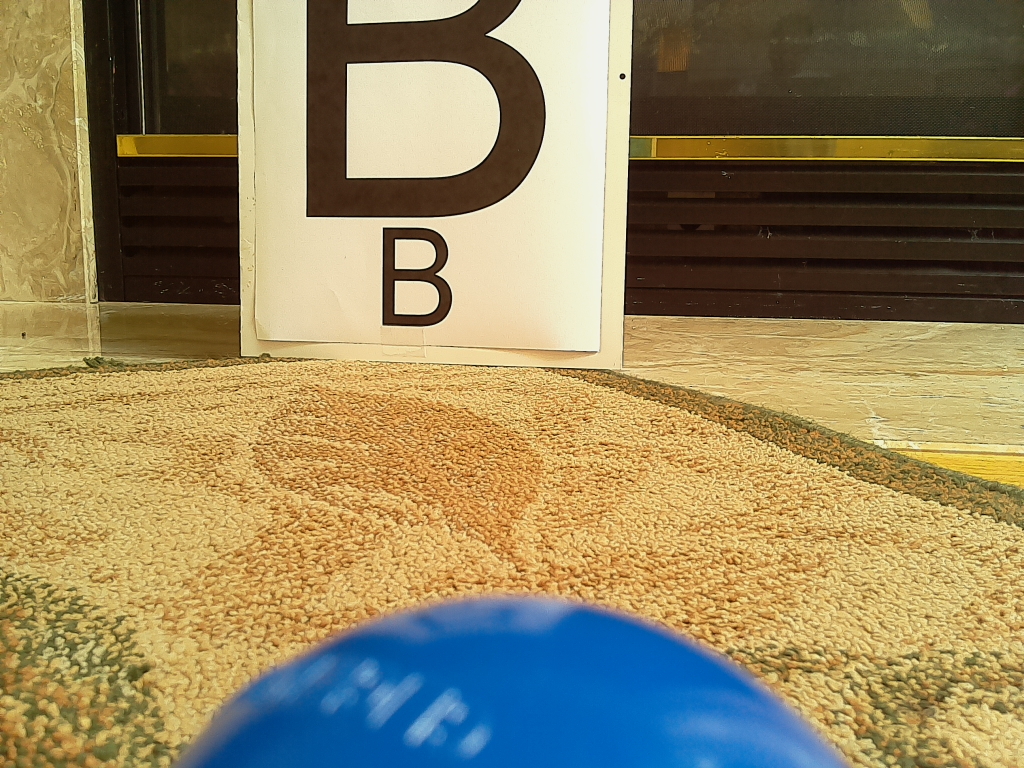letter: (381, 229, 455, 329)
